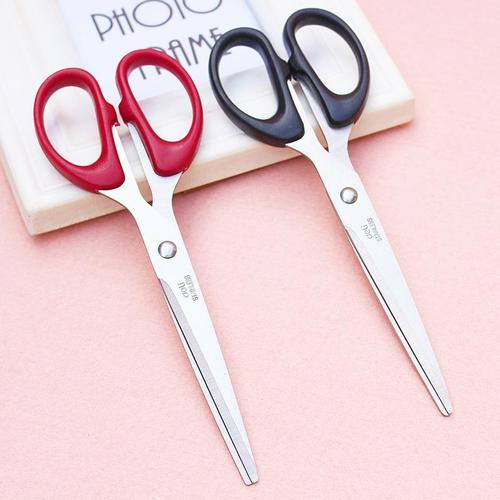scissor: (207, 8, 452, 419), (32, 47, 259, 486)
